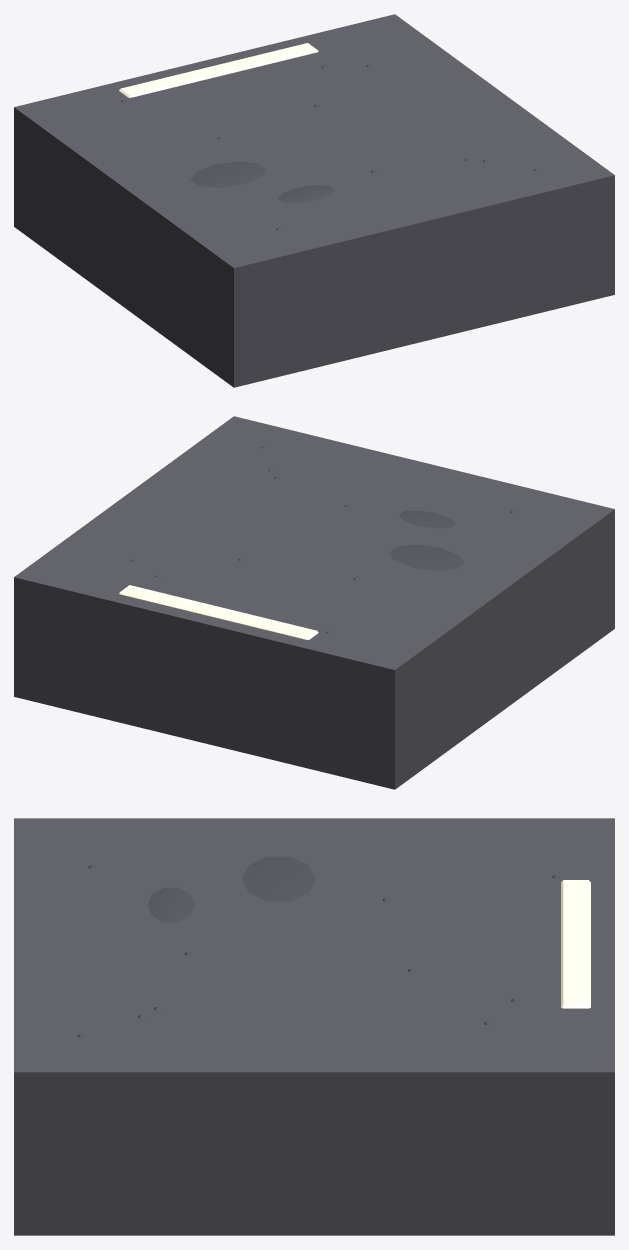
The model's file is road_tile_line.glb.
The picture shows the model from 3 angles, top to bottom: view 1: azimuth 30°, elevation 25°; view 2: azimuth 150°, elevation 25°; view 3: azimuth 270°, elevation 25°; orthographic projection. The views are drawn at different scales.
Parts seen in each view (by area): view 1: road_tile_line; view 2: road_tile_line; view 3: road_tile_line.
Boxes of the visible parts, box(x1,y1,x2,y2) form: road_tile_line: box(14, 14, 614, 387); road_tile_line: box(14, 416, 614, 789); road_tile_line: box(14, 818, 614, 1235).
Bounding box in the file's own units: 1 × 0.305 × 1.
